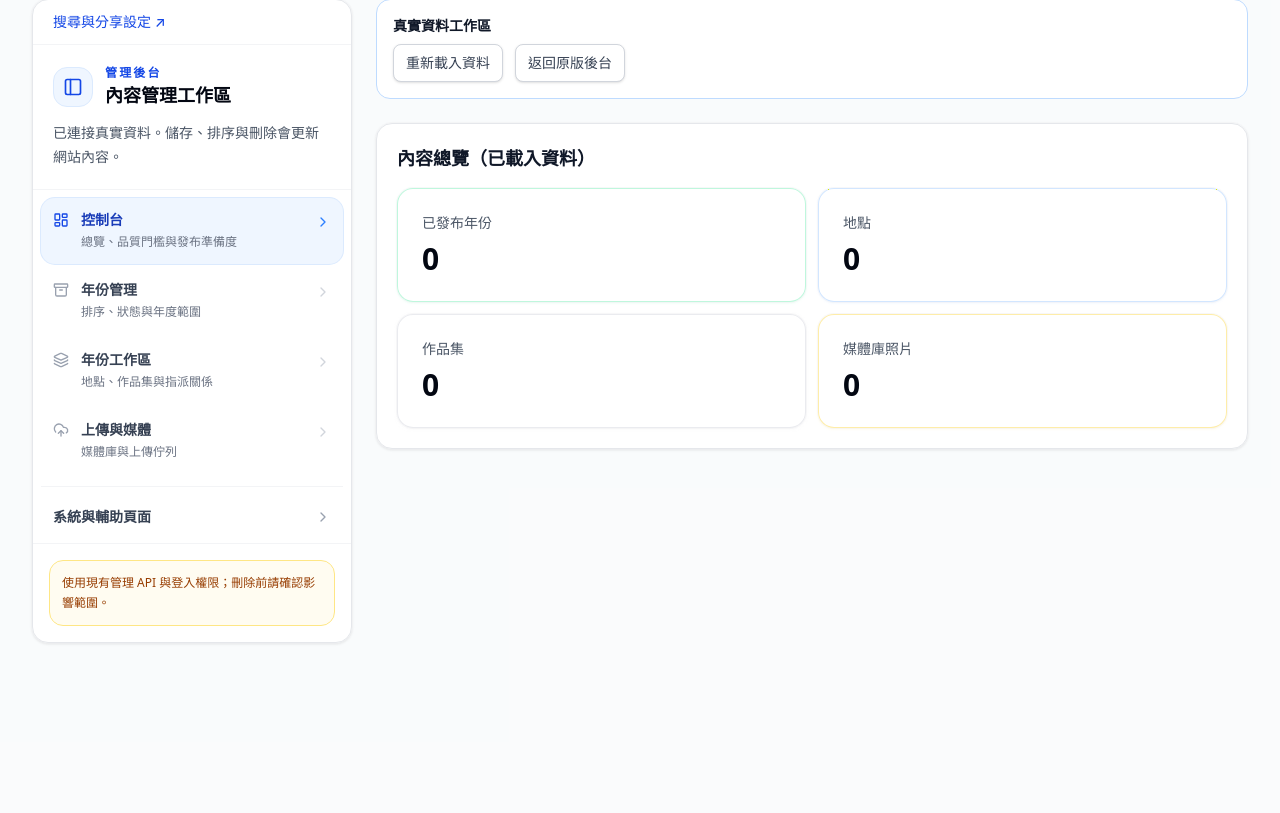
Test: conflicting refresh preserves the local draft and blocks saving until resolved
Expected: the text "真實資料工作區" is shown, x1=393 y1=16 x2=491 y2=35
Click the button "年份工作區 地點、作品集與指派關係" at (192, 371), box x1=41 y1=338 x2=343 y2=404
(page scrolled)
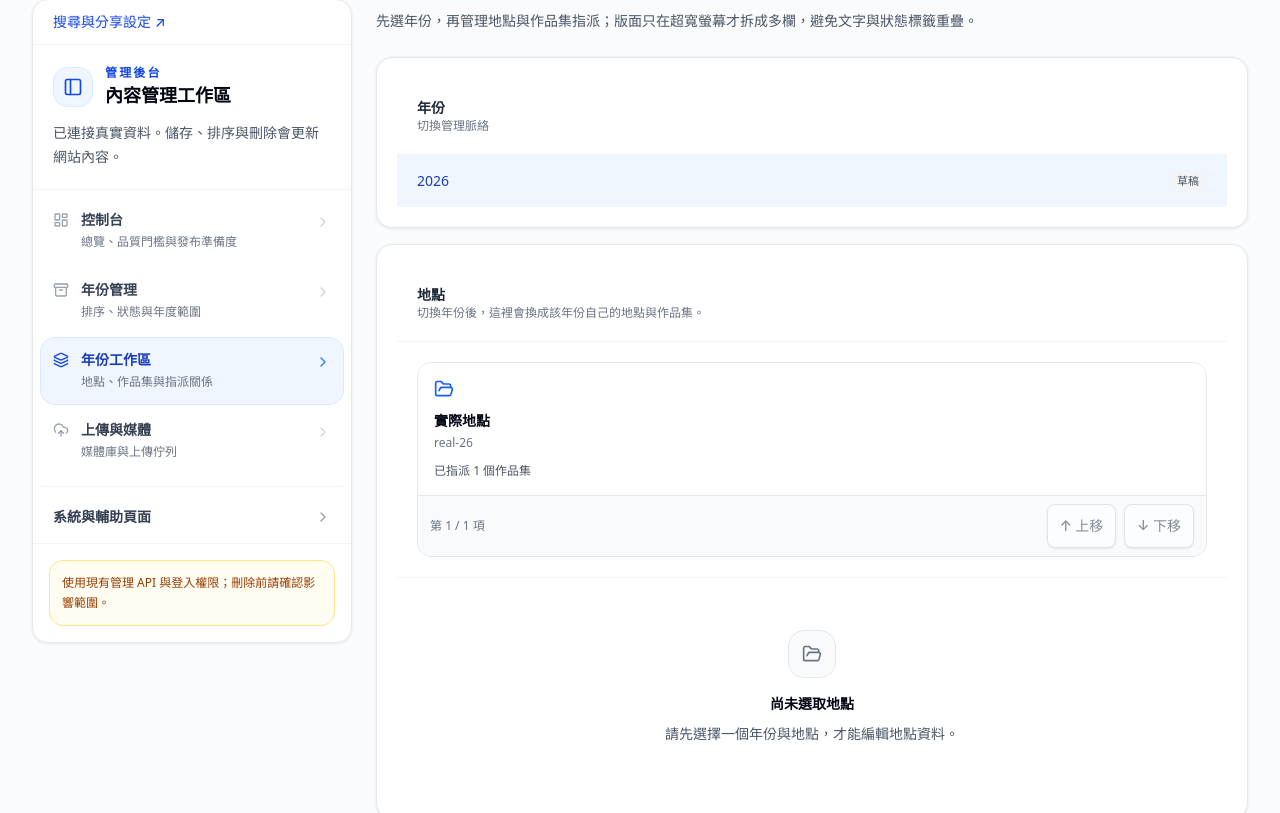
Click the button "實際地點 real-26 已指派 1 個作品集" at (462, 420), box x1=418 y1=363 x2=1206 y2=495
(page scrolled)
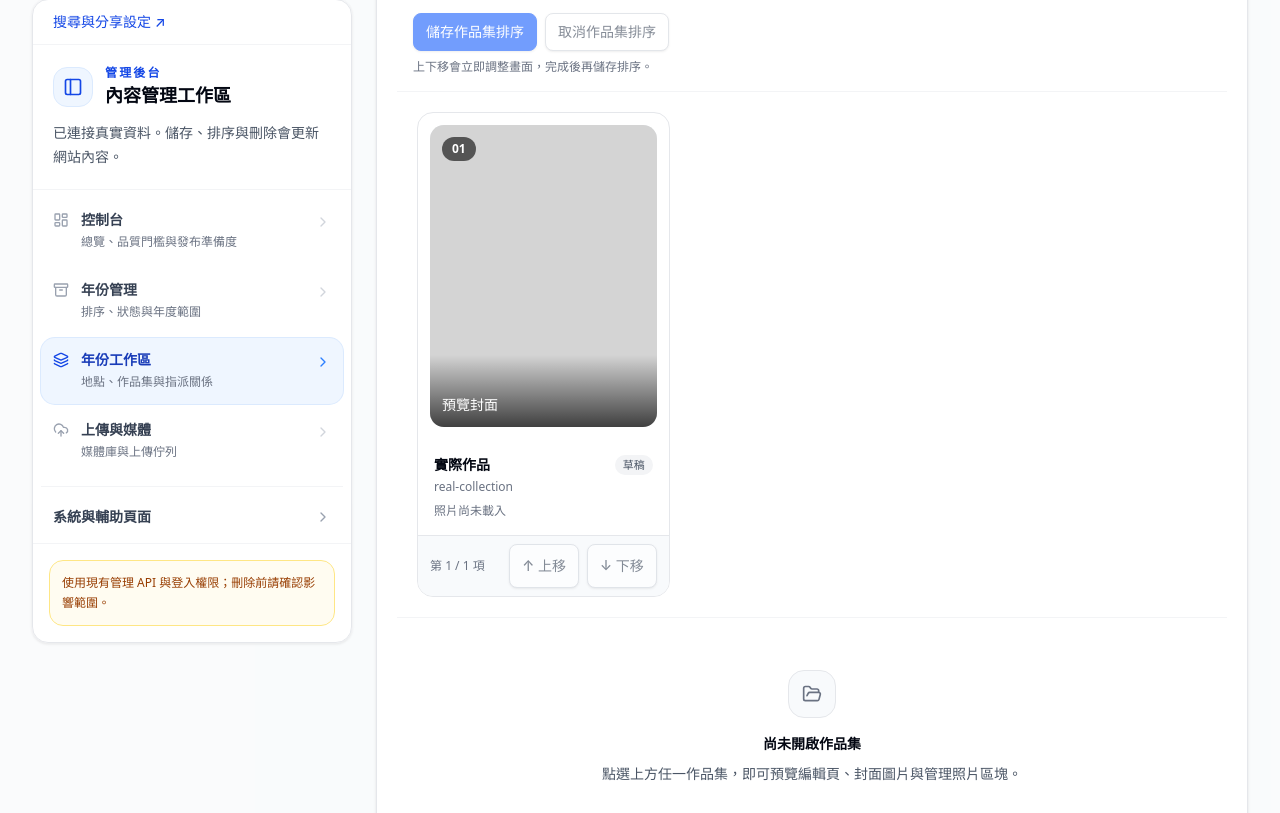
Click the button "實際作品 草稿 real-collection 照片尚未載入" at (543, 487), box x1=418 y1=439 x2=669 y2=535
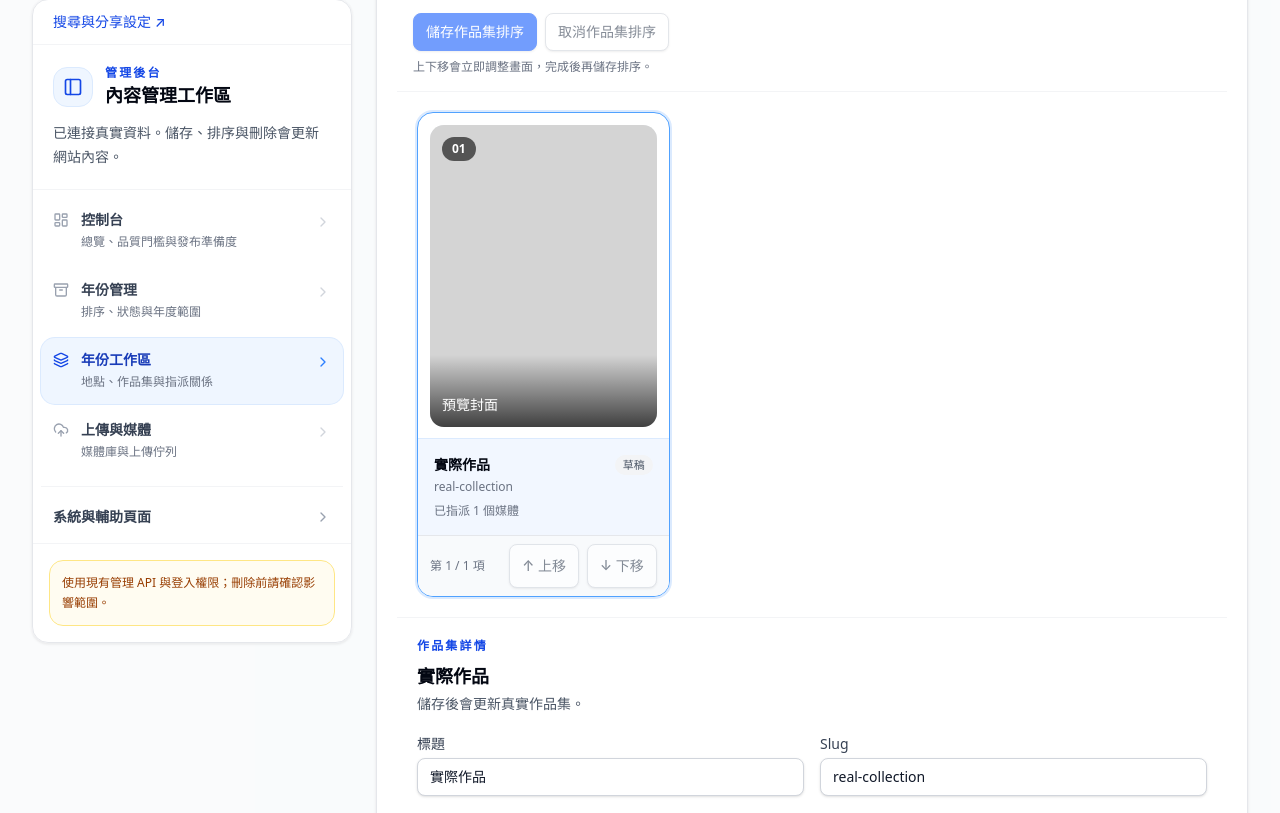
Result: the field labelled "標題" is shown
Replace the text in the field labelled "標題" with "本地修改" at (610, 777), box x1=417 y1=758 x2=804 y2=796
(page scrolled)
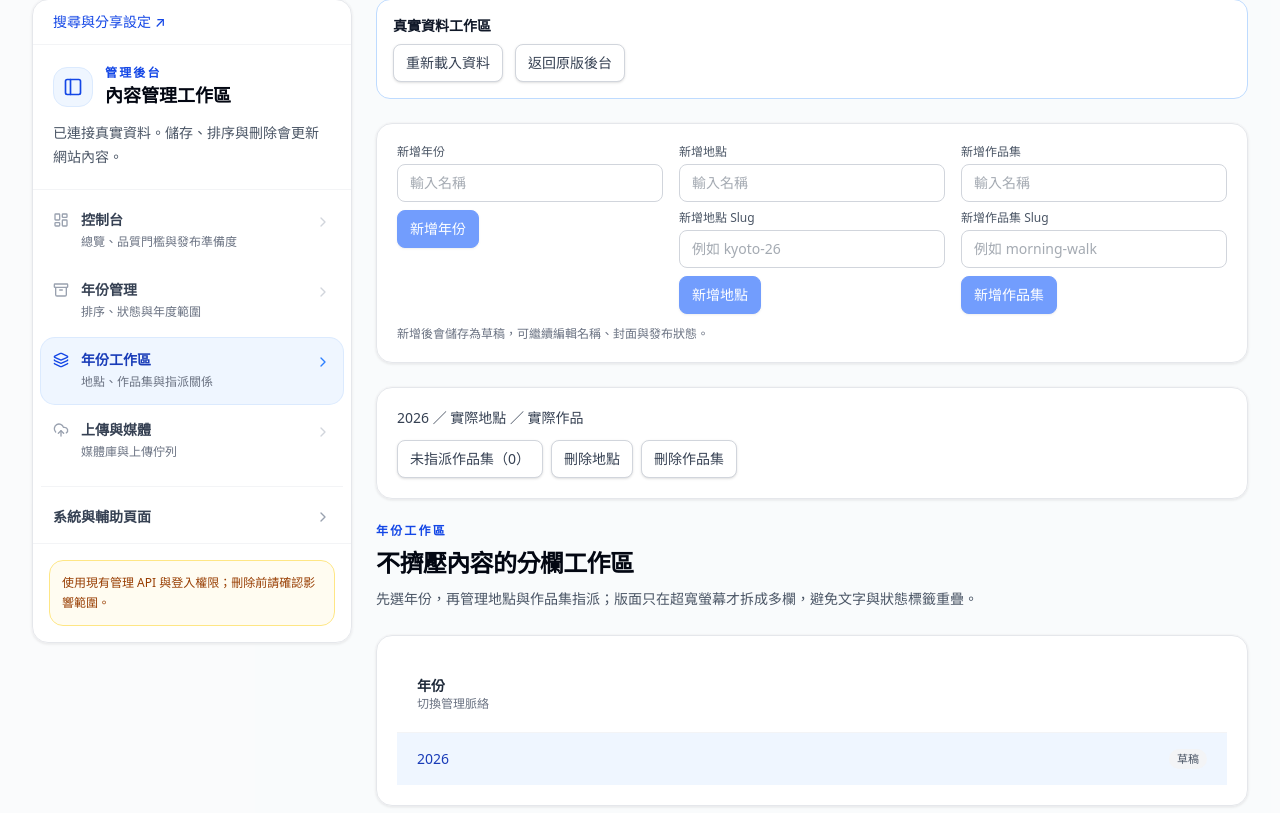
Click the button "重新載入資料" at (448, 63), box x1=393 y1=44 x2=503 y2=82
(page scrolled)
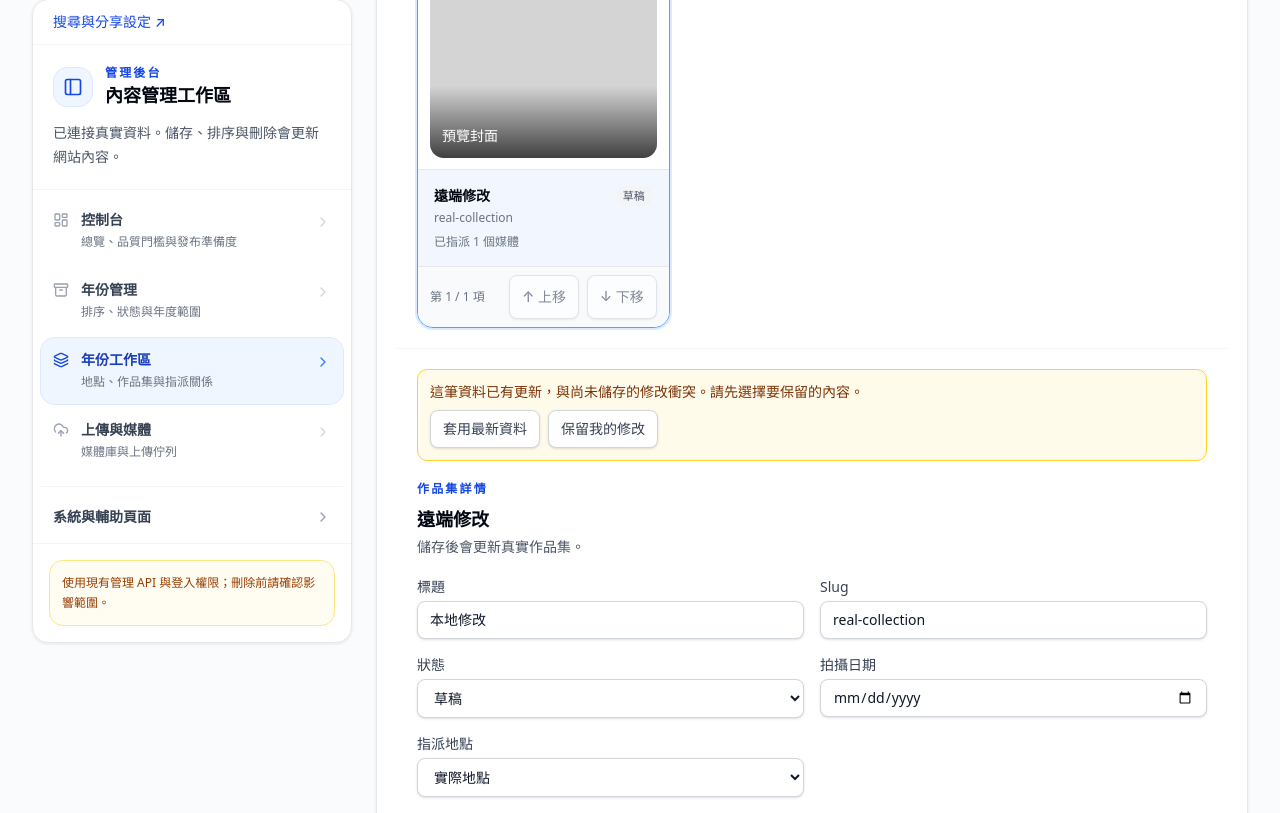
Result: the message shows "衝突" at x1=417 y1=369 x2=1207 y2=461
Click the button "套用最新資料" at (485, 429), box x1=430 y1=410 x2=540 y2=448
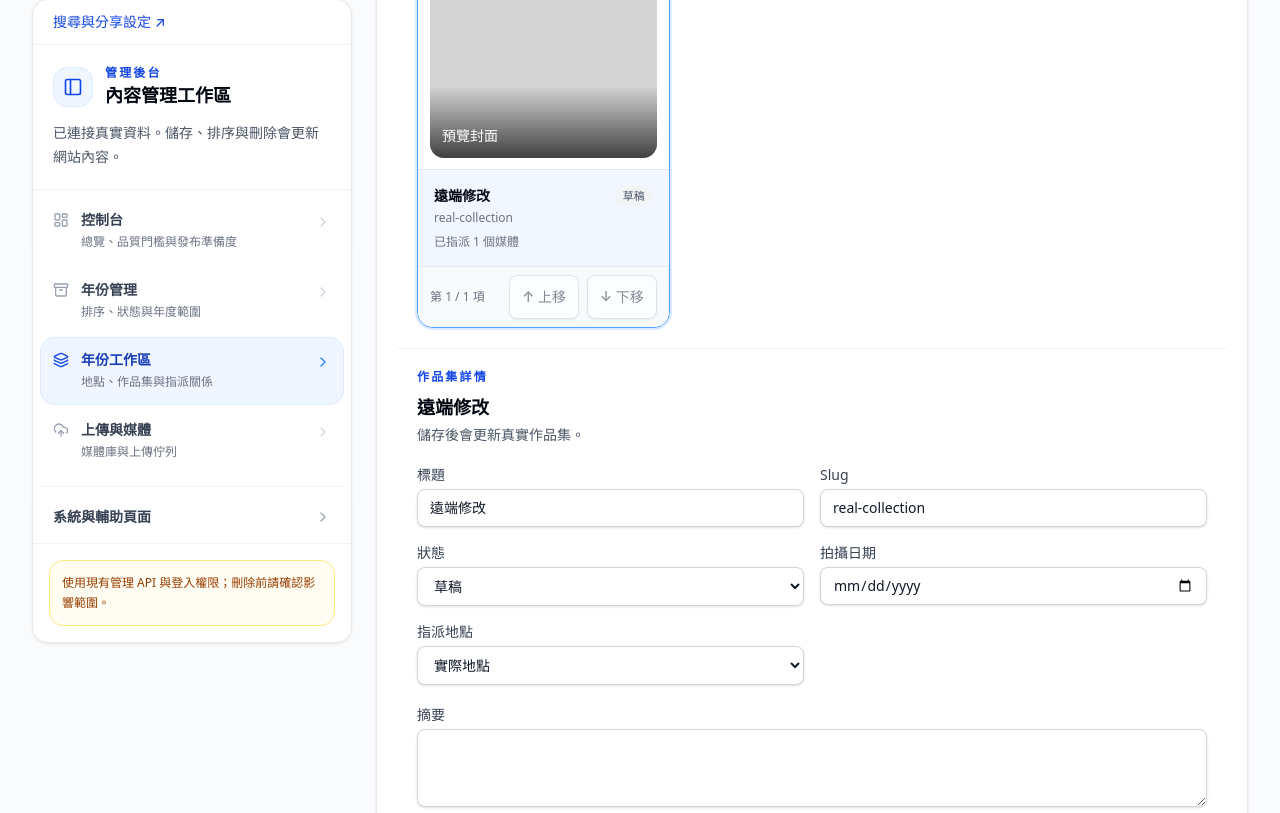
Result: the field labelled "標題" holds "遠端修改" at x1=417 y1=489 x2=804 y2=527
Result: the message "這筆資料已有更新，與尚未儲存的修改衝突。請先選擇要保留的內容。 套用最新資料 保留我的修改" is gone
